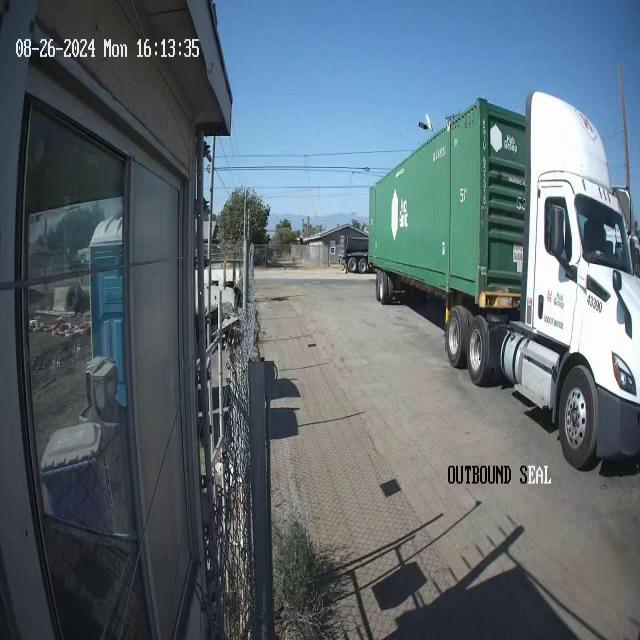TRUCK_IN: (367, 80, 639, 472)
